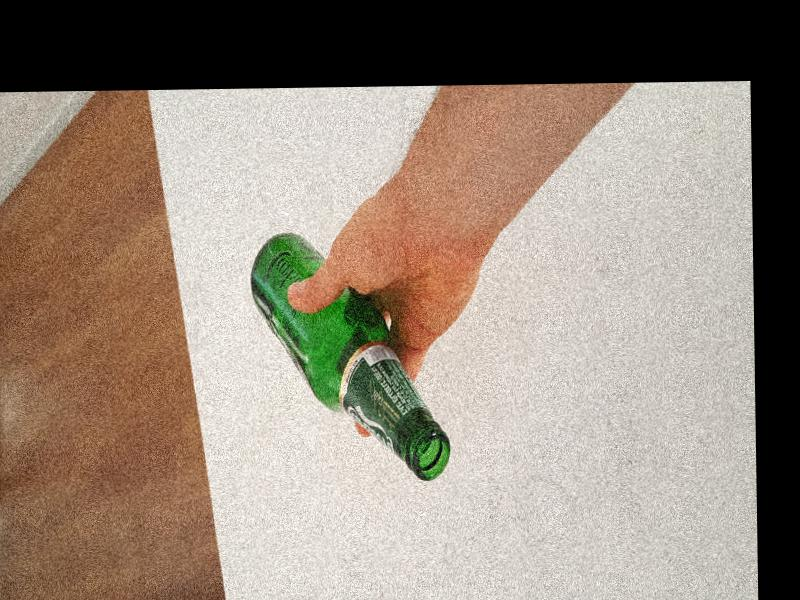Beer: (250, 232, 453, 485)
